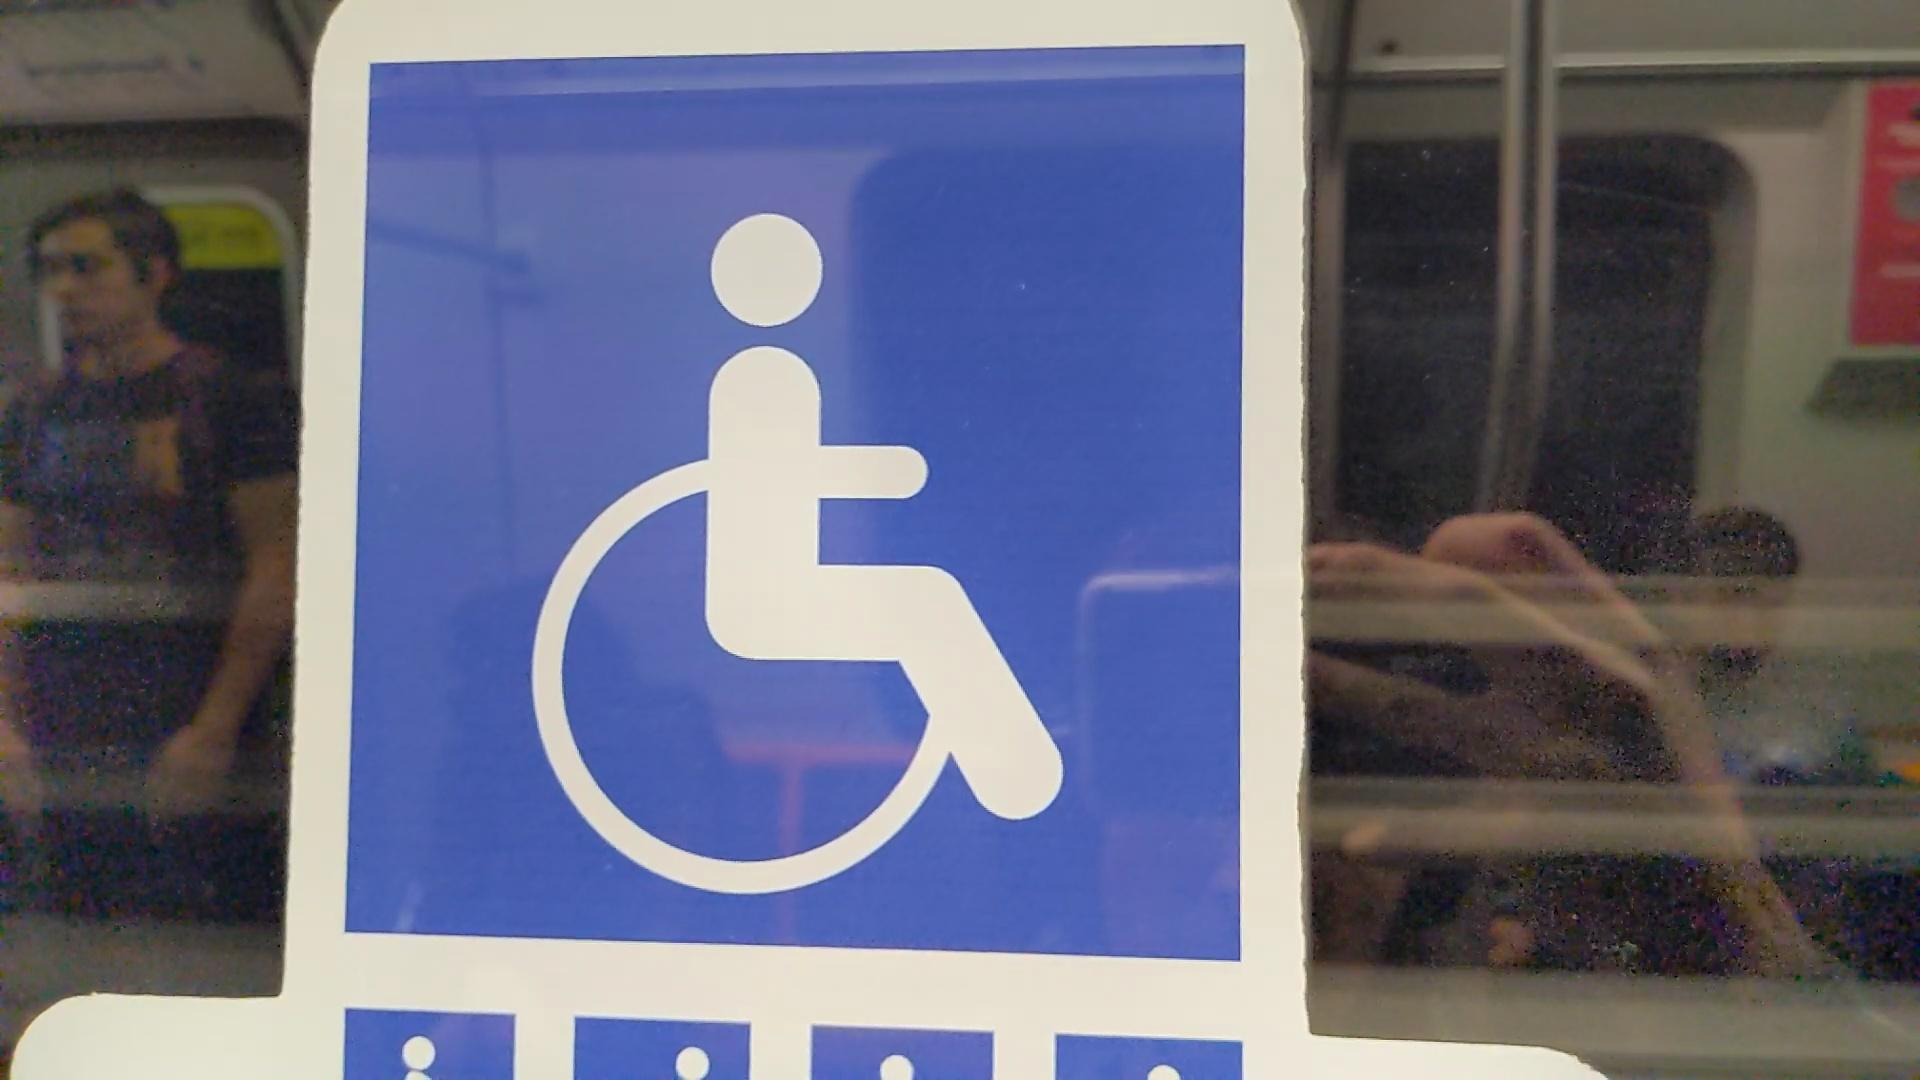handicapped symbol: (521, 207, 1075, 902)
